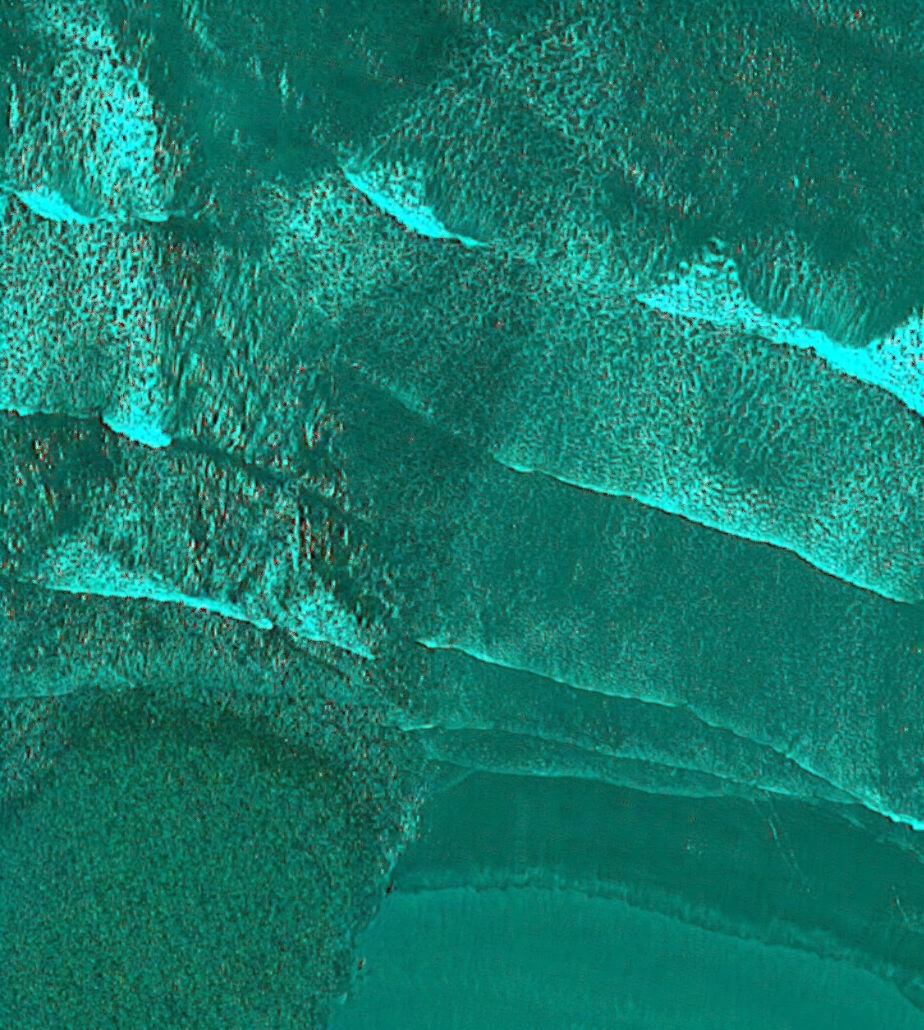rip_current: (88, 74, 393, 622)
